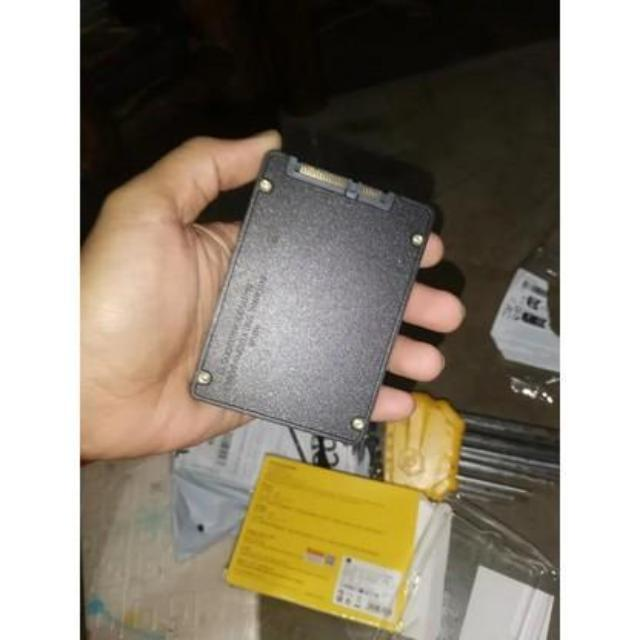DISK: (188, 147, 443, 455)
